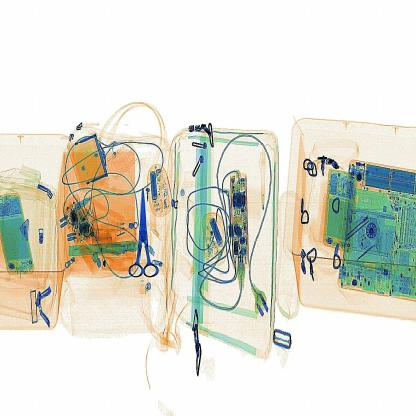gun: (119, 174, 172, 285)
